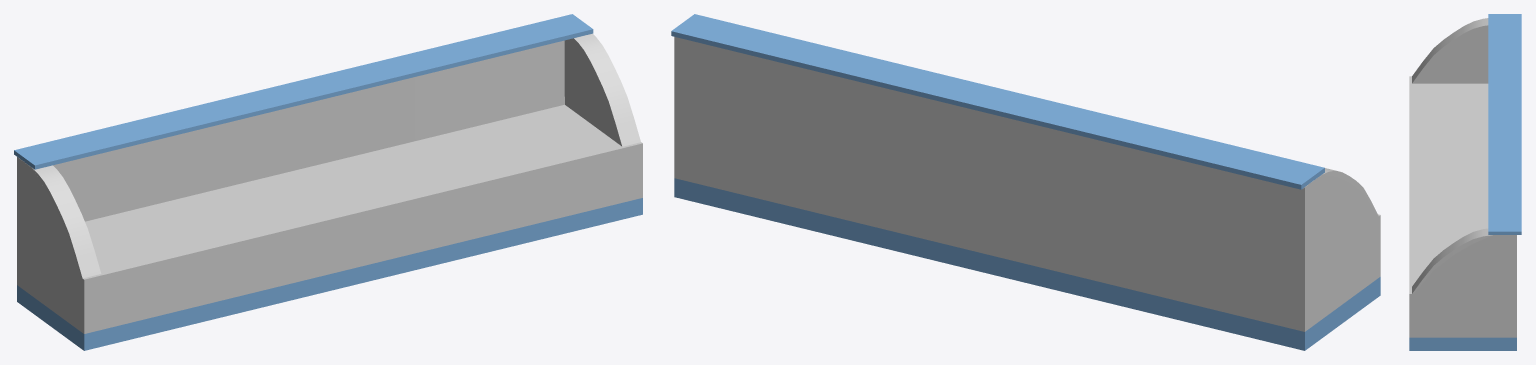
File: Vitrine_x5.fbx
3 renders of one model, left to right at view 1: azimuth 30°, elevation 25°; view 2: azimuth 150°, elevation 25°; view 3: azimuth 270°, elevation 25°, orthographic. The views are drawn at different scales.
Visible parts, largest first — view 1: Cube.006; view 2: Cube.006; view 3: Cube.006.
Boxes of the visible parts, x1=… form: Cube.006: x1=14, y1=14, x2=642, y2=350; Cube.006: x1=671, y1=14, x2=1380, y2=350; Cube.006: x1=1409, y1=14, x2=1521, y2=350.
Bounding box in the file's own units: 500 × 128 × 109.
